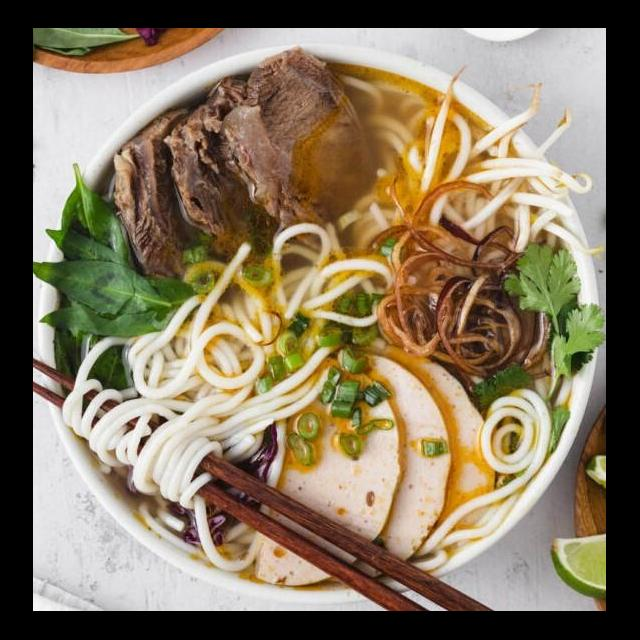bun: (61, 216, 398, 574), (398, 351, 578, 578), (334, 62, 514, 262)
bun bo: (60, 74, 583, 562)
rau ram: (35, 158, 202, 416)
thit bo: (217, 41, 380, 262), (160, 70, 296, 266), (107, 101, 230, 292)
